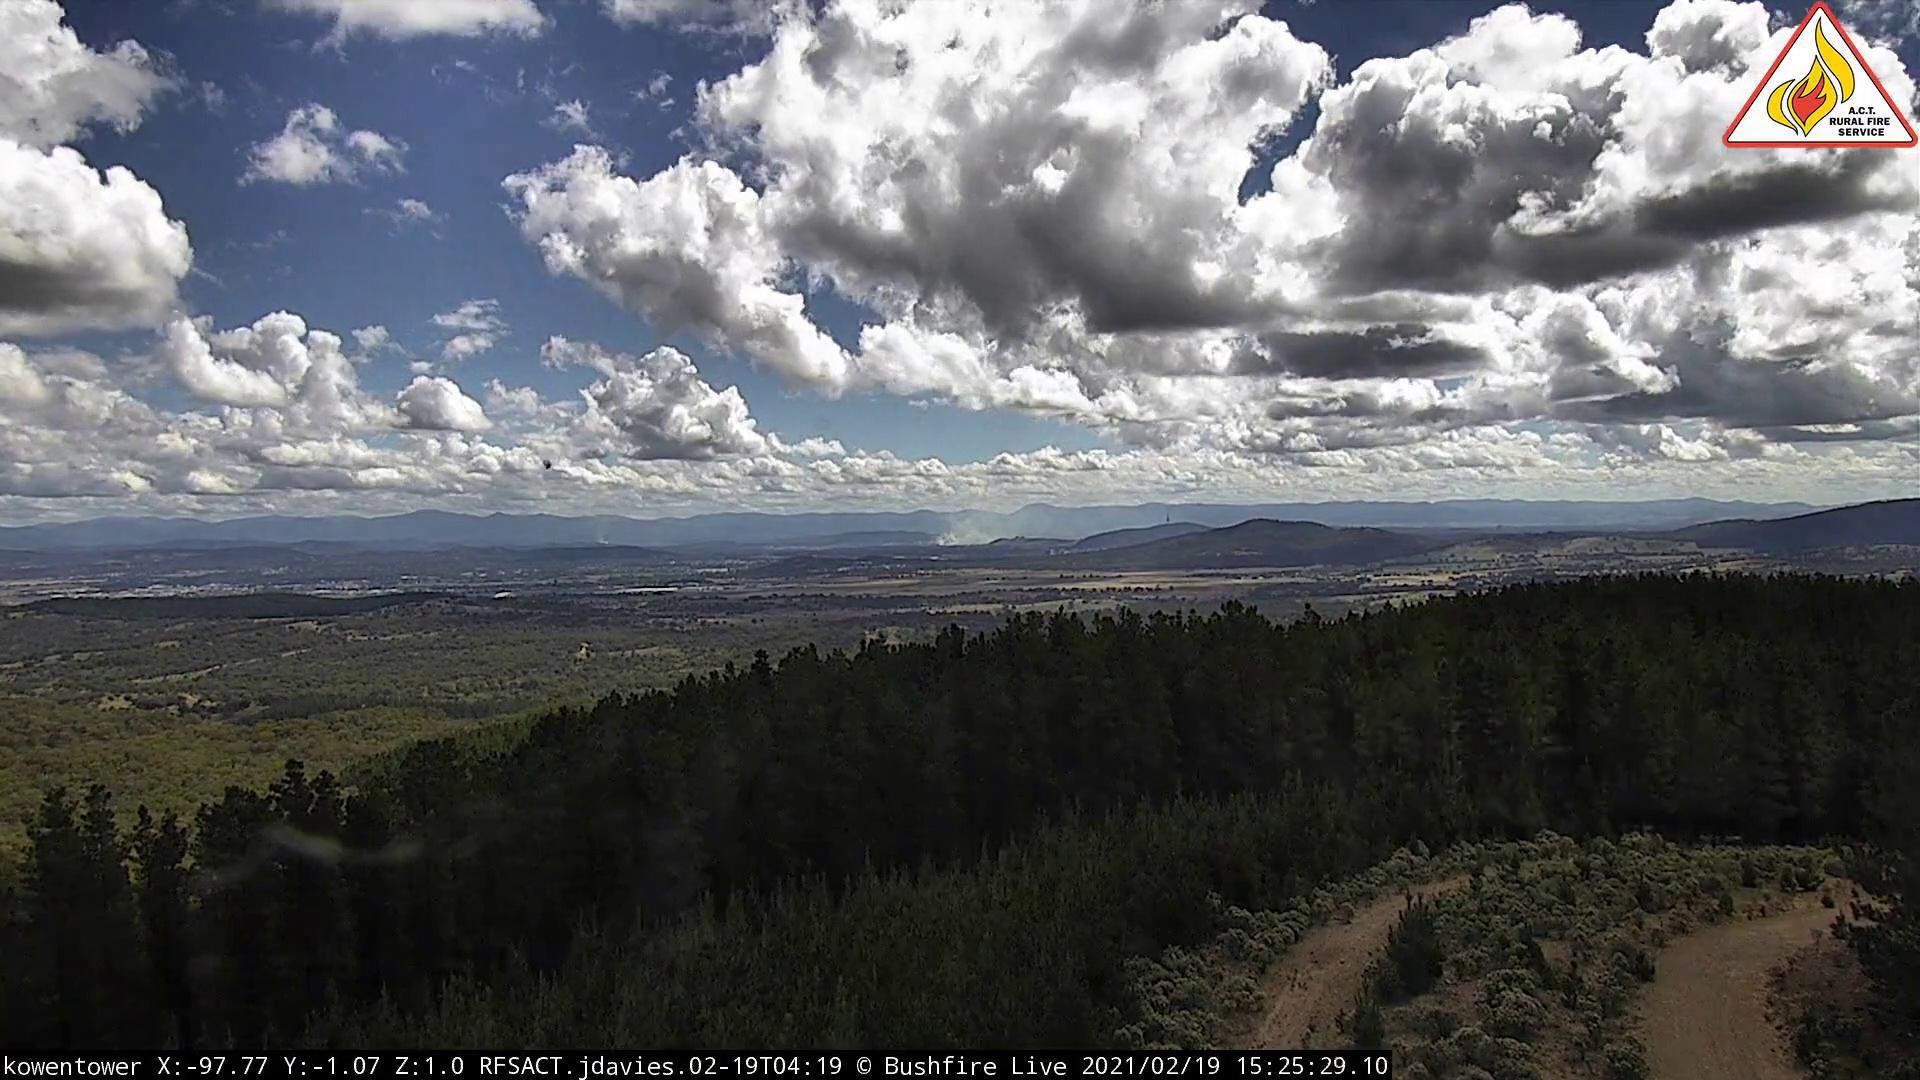Smoke: (934, 502, 1030, 554), (595, 527, 618, 554)
